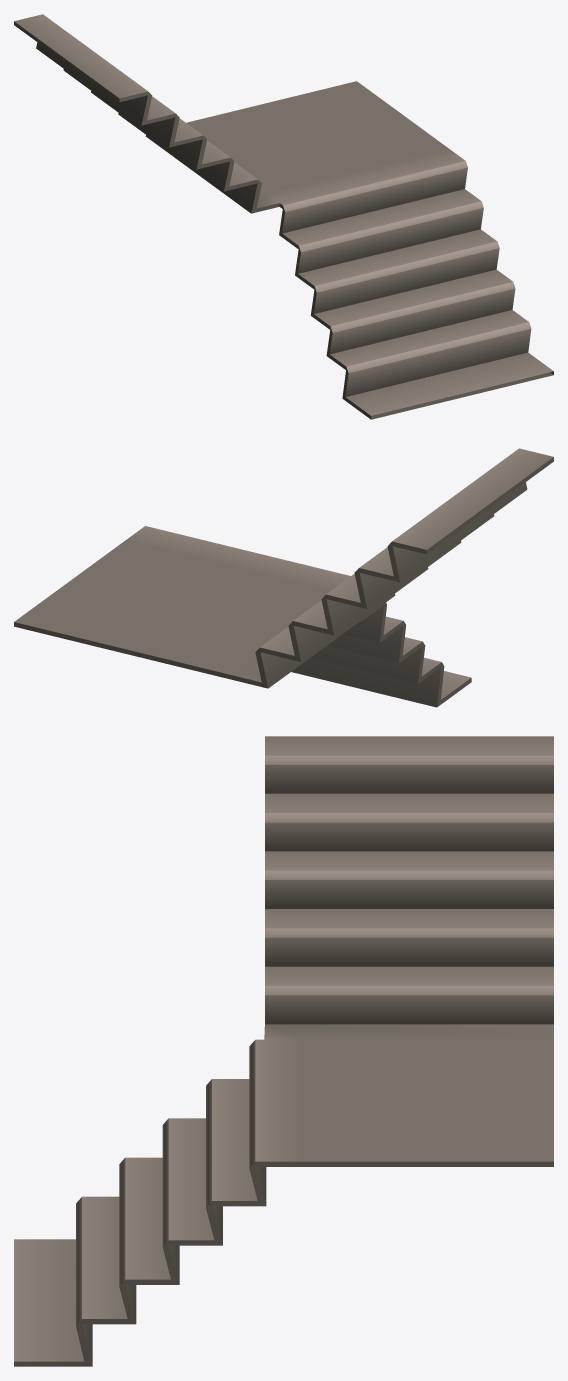
File: TSP_House_Stairs_Corner_02A.R.fbx
3 views of the same model, one above another, from view 1: azimuth 30°, elevation 25°; view 2: azimuth 150°, elevation 25°; view 3: azimuth 270°, elevation 25° (orthographic). The views are drawn at different scales.
Parts seen in each view (by area): view 1: TSP_House_Stairs_Corner_02A.R; view 2: TSP_House_Stairs_Corner_02A.R; view 3: TSP_House_Stairs_Corner_02A.R.
Part boxes in pixels (left/top/right/bottom): TSP_House_Stairs_Corner_02A.R: left=14, top=14, right=553, bottom=419; TSP_House_Stairs_Corner_02A.R: left=14, top=448, right=553, bottom=707; TSP_House_Stairs_Corner_02A.R: left=14, top=736, right=553, bottom=1366.
Size of the model in its own units: 3.75 by 3.06 by 3.74.
